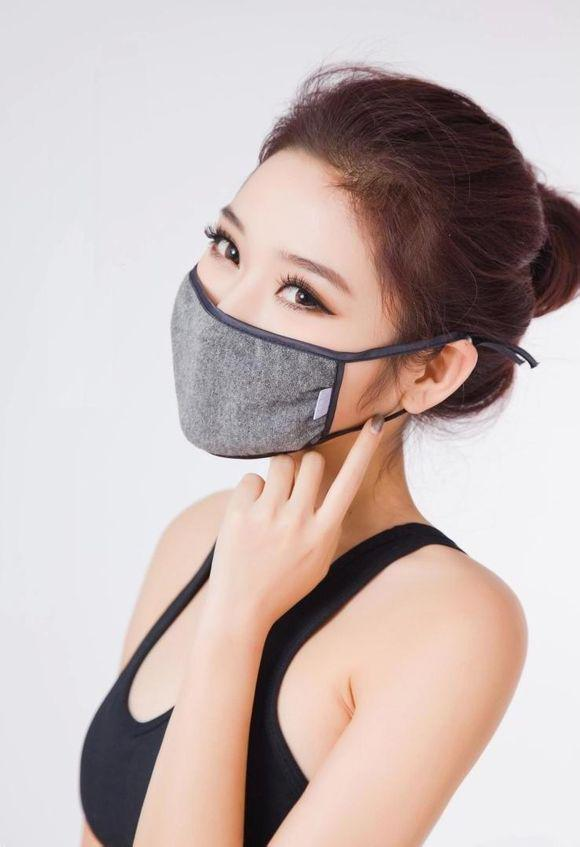OK: (174, 198, 382, 455)
